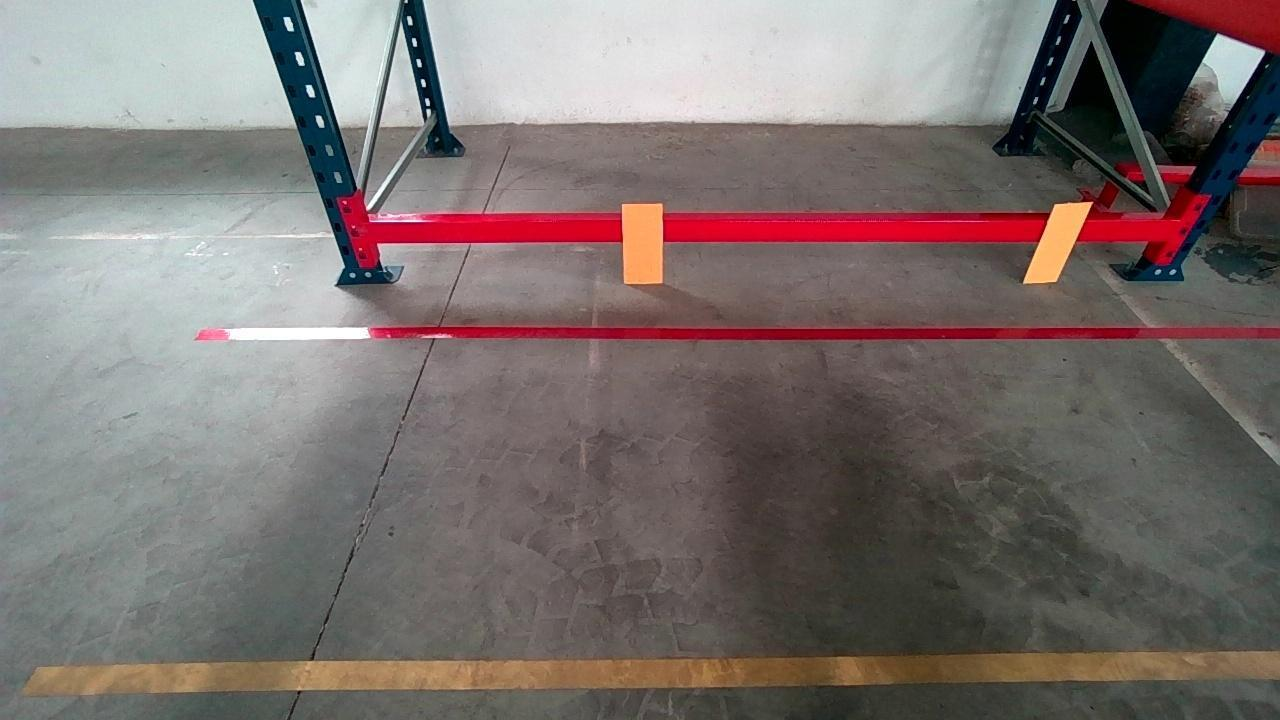h_rack: (368, 211, 1178, 246)
orange_strip: (1023, 201, 1095, 280), (623, 202, 664, 282)
red_line: (192, 318, 1279, 348)
yellow_line: (21, 635, 1279, 700)
